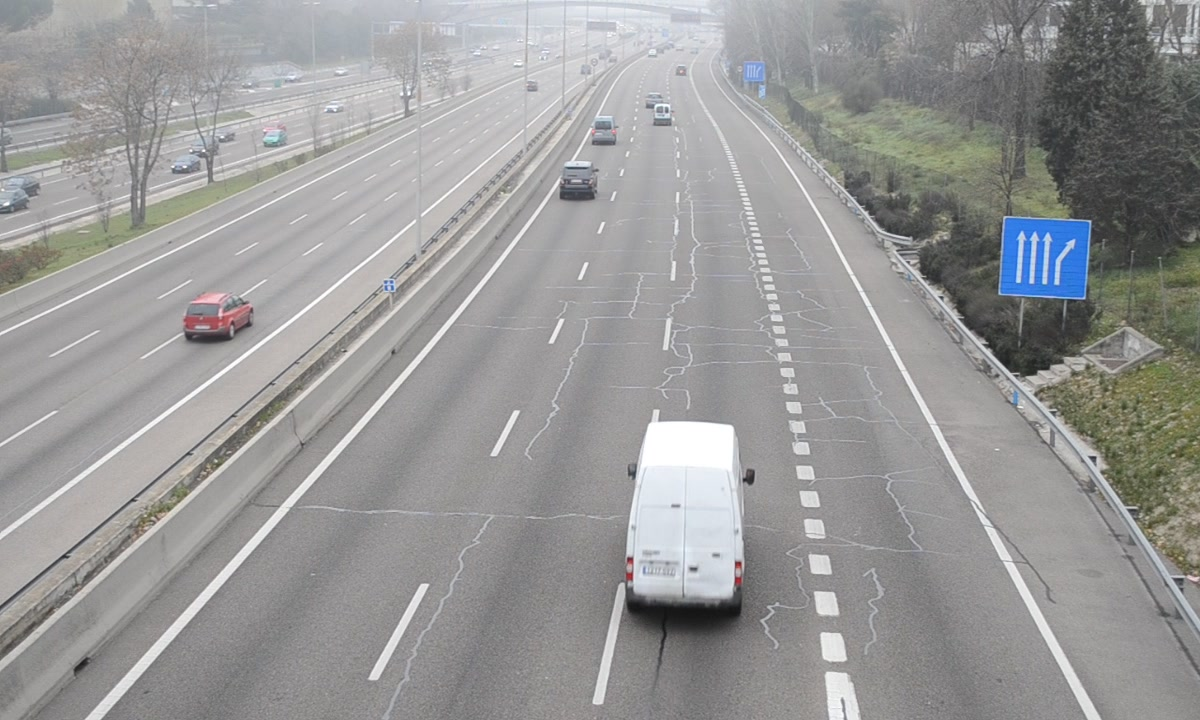car: (560, 161, 597, 199)
van: (623, 421, 745, 615), (590, 114, 616, 146)
